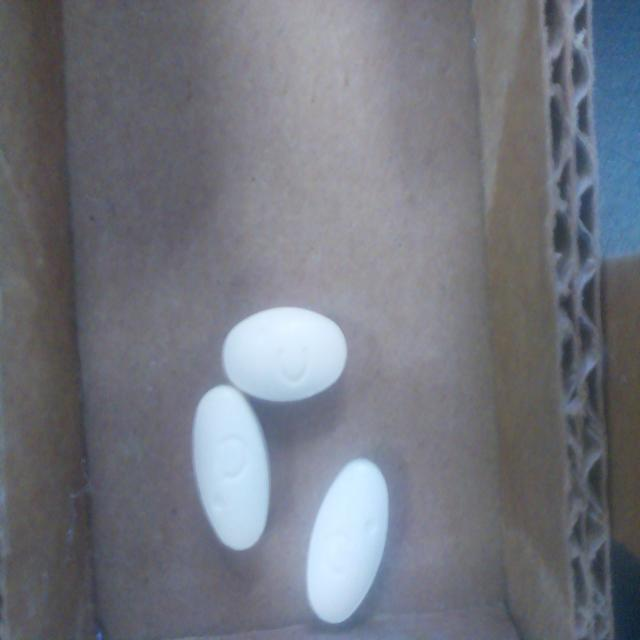pill: (305, 459, 388, 624), (193, 385, 270, 550), (222, 307, 347, 402)
